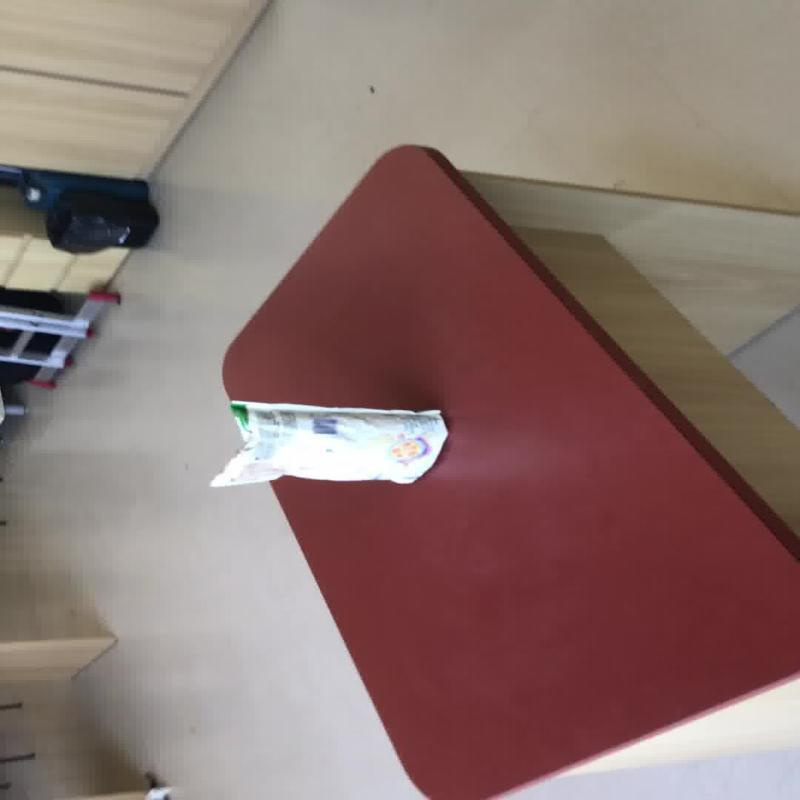corn flakes: (215, 143, 797, 796), (207, 398, 448, 488)
